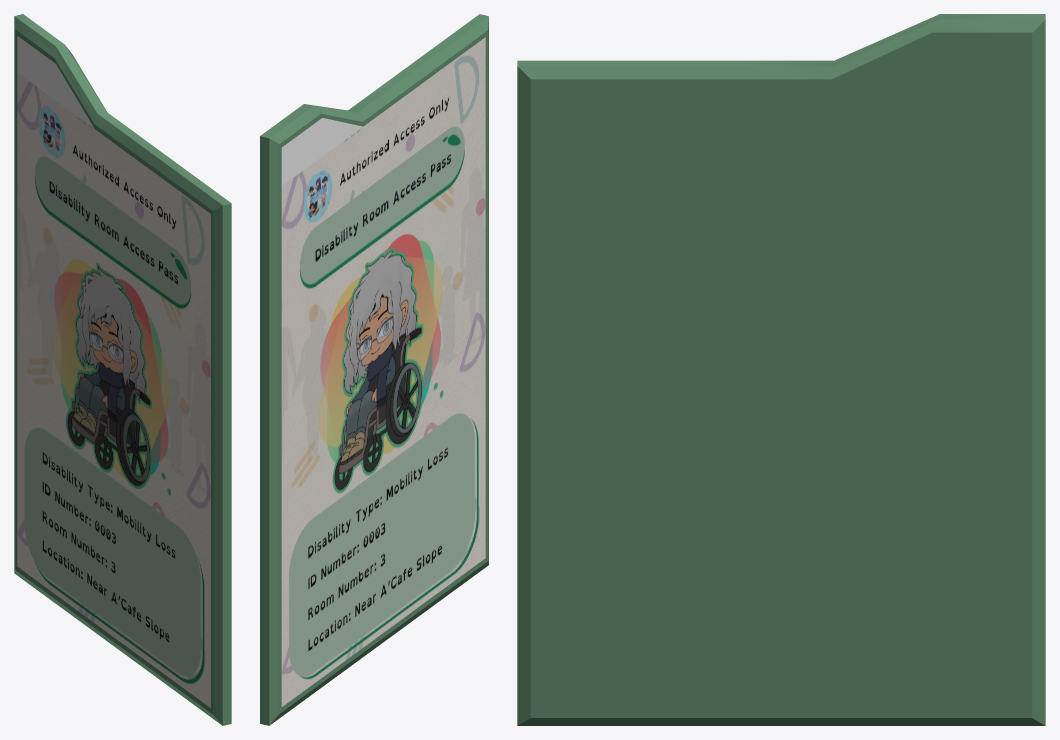
The model's file is MobilityCard.fbx.
The picture shows the model from 3 angles, left to right: view 1: azimuth 30°, elevation 25°; view 2: azimuth 150°, elevation 25°; view 3: azimuth 270°, elevation 25°; orthographic projection. The views are drawn at different scales.
Parts seen in each view (by area): view 1: pCube36; view 2: pCube36; view 3: pCube36.
Boxes of the visible parts, left/top/right/bottom form: pCube36: left=14, top=14, right=231, bottom=725; pCube36: left=260, top=14, right=488, bottom=725; pCube36: left=517, top=14, right=1045, bottom=725.
Size of the model in its own units: 1.34 by 40.99 by 27.78.
Materials: 3 (1 with a texture image).
